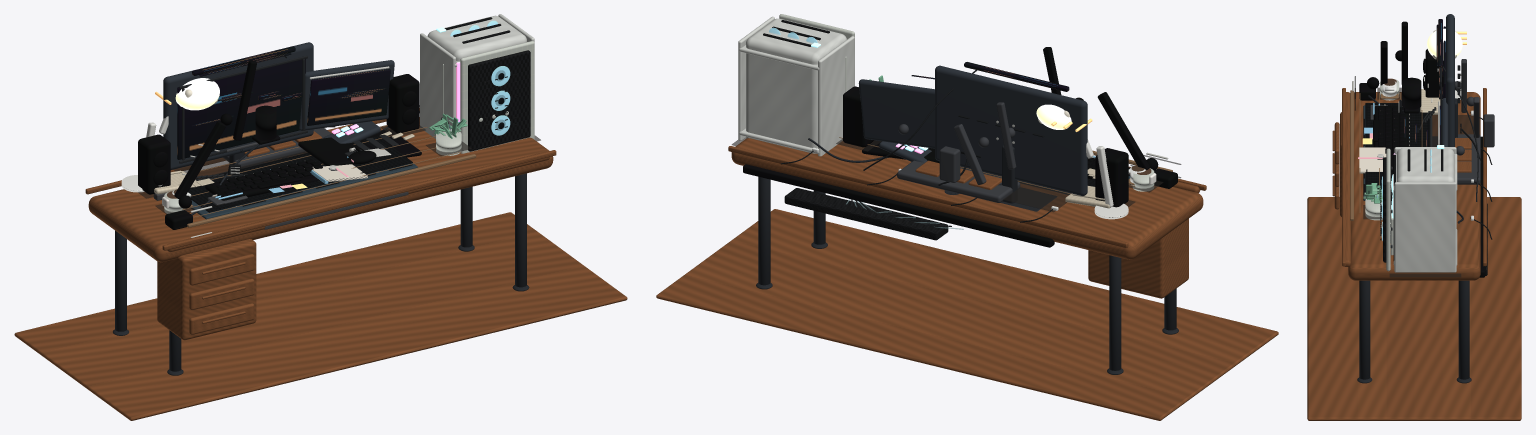
File: p2s_premium_workstation_hero_v7.glb
3 renders of one model, left to right at view 1: azimuth 30°, elevation 25°; view 2: azimuth 150°, elevation 25°; view 3: azimuth 270°, elevation 25°, orthographic. The views are drawn at different scales.
Visible parts, largest first — view 1: premium_workstation_v2_preview_floor_shadow_catcher, premium_workstation_oiled_oak_waterfall_top, premium_workstation_main_monitor_inner_screen, premium_workstation_left_lacquer_drawer_carcase, premium_workstation_v3_pc_front_deep_mesh_insert, premium_workstation_side_display_blue_screen, premium_workstation_v2_pc_case_vertical_frame_0.94, premium_workstation_main_monitor_outer_shell, premium_workstation_v2_oak_end_grain_band_0.51, premium_workstation_v3_deskmat_top_charcoal_overlay, premium_workstation_white_pc_case_body, premium_workstation_v3_pc_front_outer_white_frame (+23 smaller); view 2: premium_workstation_v2_preview_floor_shadow_catcher, premium_workstation_oiled_oak_waterfall_top, premium_workstation_main_monitor_outer_shell, premium_workstation_white_pc_case_body, premium_workstation_side_display_shell, premium_workstation_left_lacquer_drawer_carcase, premium_workstation_rear_black_cable_raceway, premium_workstation_v2_pc_case_vertical_frame_0.94, premium_workstation_v2_underdesk_mesh_cable_tray, premium_workstation_v2_oak_end_grain_band_-0.51, premium_workstation_v2_aluminum_monitor_riser_shelf, premium_workstation_tapered_black_steel_leg_-1.32_-0.36 (+12 smaller); view 3: premium_workstation_v2_preview_floor_shadow_catcher, premium_workstation_oiled_oak_waterfall_top, premium_workstation_v2_pc_case_vertical_frame_1.54, premium_workstation_white_pc_case_body, premium_workstation_tapered_black_steel_leg_1.32_-0.36, premium_workstation_tapered_black_steel_leg_1.32_0.36, premium_workstation_v3_deskmat_top_charcoal_overlay, premium_workstation_main_monitor_outer_shell, premium_workstation_oak_front_soft_bullnose, premium_workstation_v2_oak_end_grain_band_0.51, premium_workstation_v2_aluminum_monitor_riser_shelf, premium_workstation_low_profile_keyboard_body (+24 smaller).
Boxes of the visible parts, x1,y1,x2,y2 form: premium_workstation_v2_preview_floor_shadow_catcher: (14, 212, 627, 420); premium_workstation_oiled_oak_waterfall_top: (88, 117, 553, 262); premium_workstation_main_monitor_inner_screen: (177, 59, 305, 159); premium_workstation_left_lacquer_drawer_carcase: (157, 239, 256, 340); premium_workstation_v3_pc_front_deep_mesh_insert: (468, 50, 530, 151); premium_workstation_side_display_blue_screen: (307, 69, 390, 125); premium_workstation_v2_pc_case_vertical_frame_0.94: (420, 33, 456, 138); premium_workstation_main_monitor_outer_shell: (163, 42, 313, 169); premium_workstation_v2_oak_end_grain_band_0.51: (162, 150, 556, 250); premium_workstation_v3_deskmat_top_charcoal_overlay: (188, 136, 412, 212); premium_workstation_white_pc_case_body: (427, 15, 526, 61); premium_workstation_v3_pc_front_outer_white_frame: (460, 41, 534, 153); premium_workstation_v2_preview_floor_shadow_catcher: (656, 209, 1278, 420); premium_workstation_oiled_oak_waterfall_top: (731, 138, 1203, 259); premium_workstation_main_monitor_outer_shell: (935, 65, 1087, 195); premium_workstation_white_pc_case_body: (746, 18, 846, 153); premium_workstation_side_display_shell: (858, 79, 934, 148); premium_workstation_left_lacquer_drawer_carcase: (1088, 218, 1188, 298); premium_workstation_rear_black_cable_raceway: (743, 164, 1054, 247); premium_workstation_v2_pc_case_vertical_frame_0.94: (818, 36, 854, 156); premium_workstation_v2_underdesk_mesh_cable_tray: (784, 188, 948, 240); premium_workstation_v2_oak_end_grain_band_-0.51: (728, 146, 1128, 247); premium_workstation_v2_aluminum_monitor_riser_shelf: (897, 160, 1020, 202); premium_workstation_tapered_black_steel_leg_-1.32_-0.36: (1109, 255, 1121, 370); premium_workstation_v2_preview_floor_shadow_catcher: (1307, 197, 1521, 420); premium_workstation_oiled_oak_waterfall_top: (1348, 92, 1480, 280); premium_workstation_v2_pc_case_vertical_frame_1.54: (1394, 182, 1456, 272); premium_workstation_white_pc_case_body: (1396, 148, 1454, 181); premium_workstation_tapered_black_steel_leg_1.32_-0.36: (1458, 280, 1469, 379); premium_workstation_tapered_black_steel_leg_1.32_0.36: (1359, 280, 1370, 379); premium_workstation_v3_deskmat_top_charcoal_overlay: (1365, 103, 1430, 193); premium_workstation_main_monitor_outer_shell: (1446, 14, 1454, 146); premium_workstation_oak_front_soft_bullnose: (1344, 92, 1350, 266); premium_workstation_v2_oak_end_grain_band_0.51: (1342, 88, 1345, 266); premium_workstation_v2_aluminum_monitor_riser_shelf: (1457, 134, 1480, 184); premium_workstation_low_profile_keyboard_body: (1373, 105, 1408, 157).
Size of the model in its own units: 3.8 by 2.04 by 1.55.
Materials: 42 (1 with a texture image).
